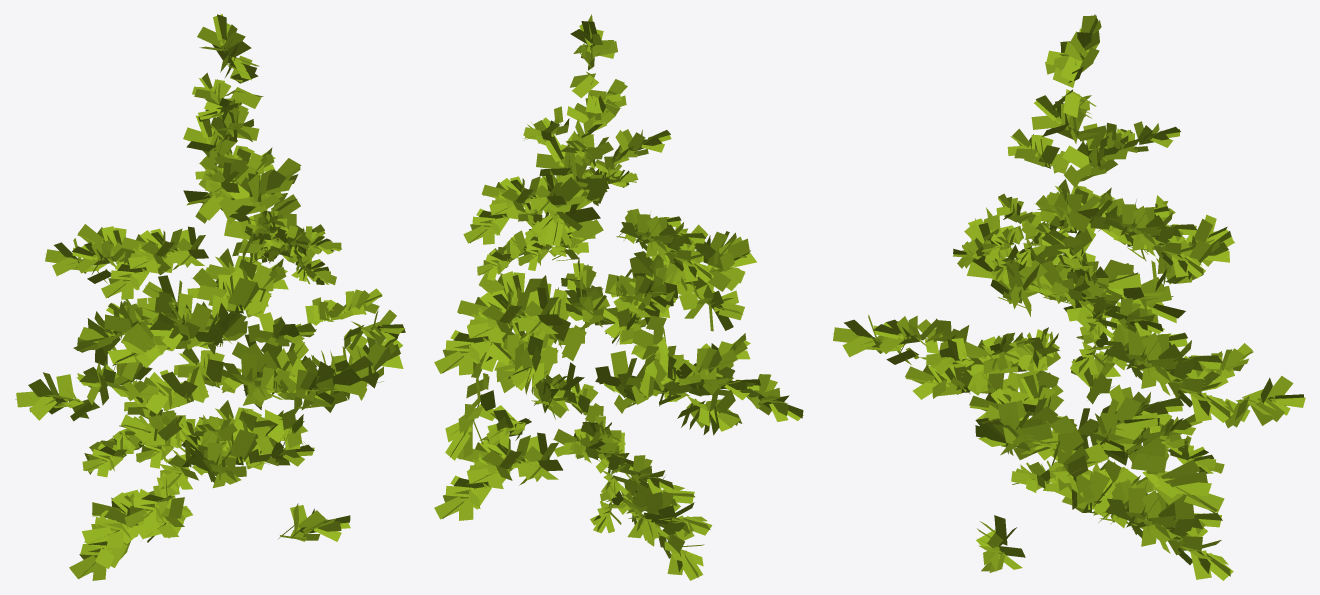
Rendered from Vegetation_Modular_Tree_Foliage_Fir_Large_01.fbx.
3 views of the same model, side by side, from view 1: azimuth 30°, elevation 25°; view 2: azimuth 150°, elevation 25°; view 3: azimuth 270°, elevation 25° (orthographic). The views are drawn at different scales.
Parts seen in each view (by area): view 1: Vegetation_Modular_Tree_Foliage_Fir_Large_01; view 2: Vegetation_Modular_Tree_Foliage_Fir_Large_01; view 3: Vegetation_Modular_Tree_Foliage_Fir_Large_01.
Boxes of the visible parts, bbox=[...] form: Vegetation_Modular_Tree_Foliage_Fir_Large_01: bbox=[15, 14, 405, 580]; Vegetation_Modular_Tree_Foliage_Fir_Large_01: bbox=[434, 14, 803, 580]; Vegetation_Modular_Tree_Foliage_Fir_Large_01: bbox=[833, 14, 1305, 580].
Bounding box in the file's own units: 244 × 384 × 290.
